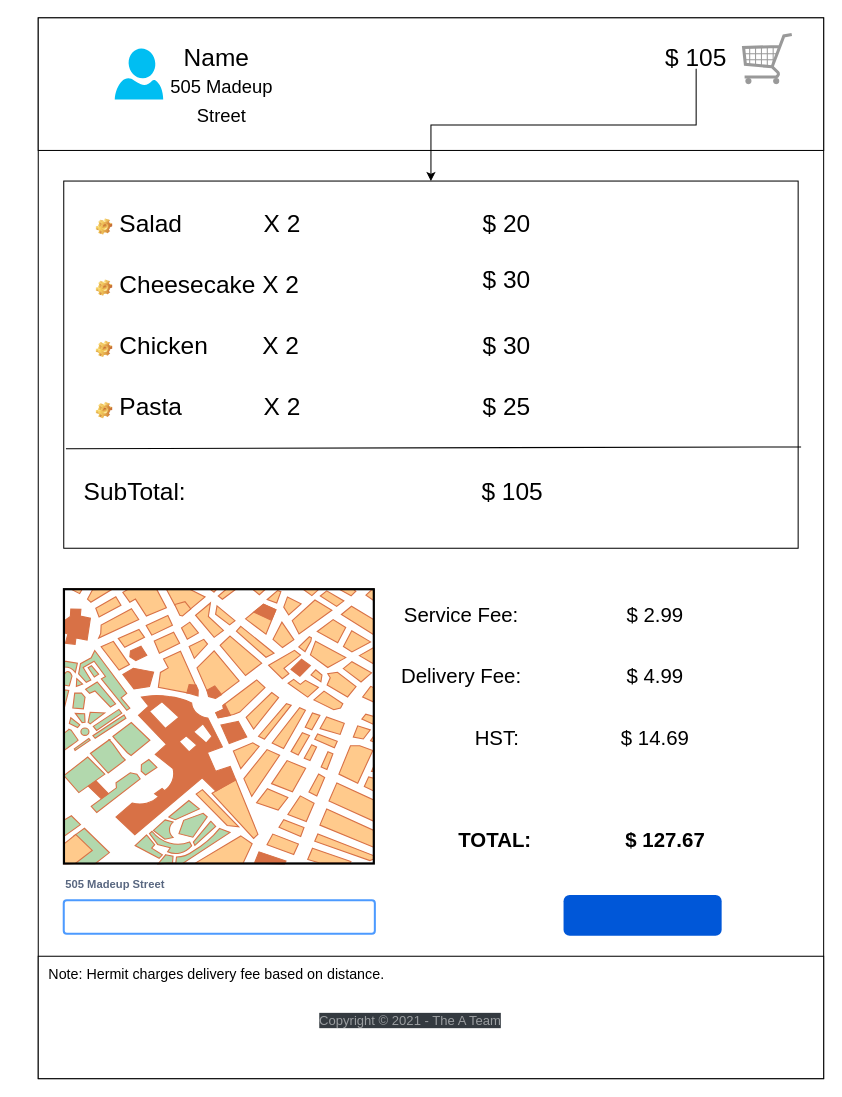
The diagram is 842 pixels wide and 1097 high, and some of its shapes have lost their labels. Each missing label, with the centre of its shape:
Pay now: pixel 642 915
You are located 13km away from CheeseCake Factory.: pixel 218 916
